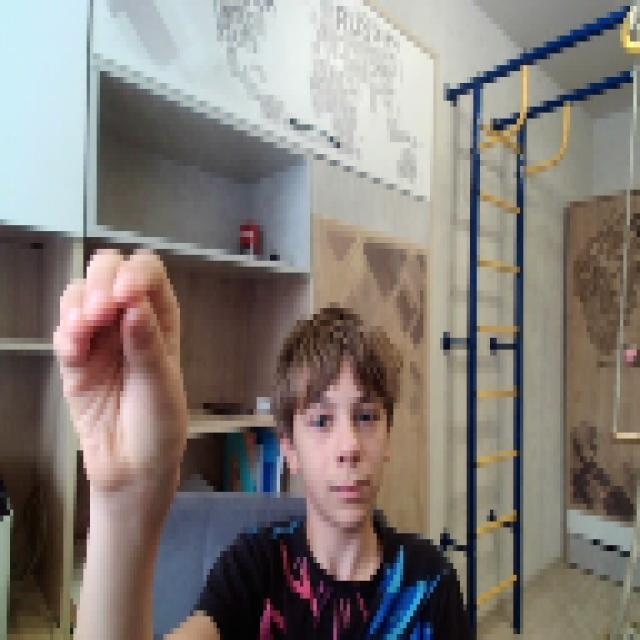left_click: (43, 237, 187, 480)
